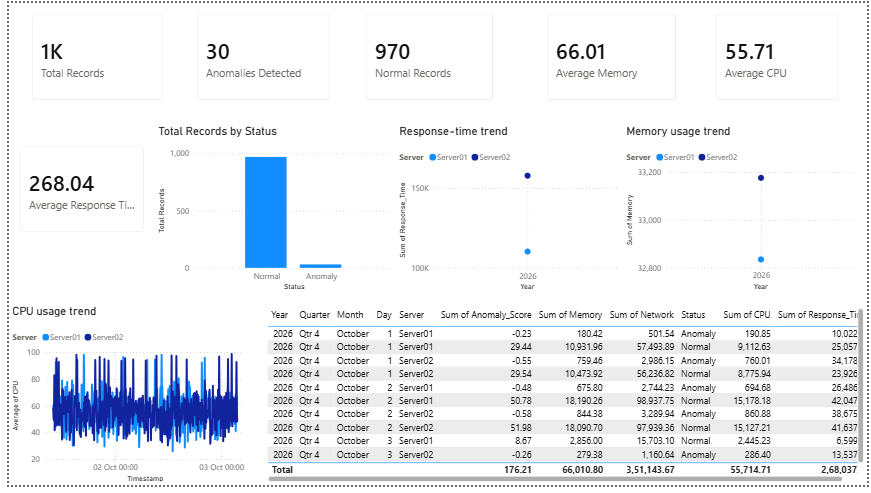

This screenshot's page, from the dashboard's own definition file:
{"tool":"powerbi","page":{"name":"Page 1","canvas":[1280,720],"ordinal":0},"visuals":[{"type":"cardVisual","fields":{"Data":["Monitoring.Total Records"]},"box":[17.3,0,228.5,162.9],"z":0},{"type":"cardVisual","fields":{"Data":["Monitoring.Anomalies Detected"]},"box":[263.5,0,231.8,162.9],"z":1},{"type":"cardVisual","fields":{"Data":["Monitoring.Normal Records"]},"box":[517,0,223.4,162.9],"z":2},{"type":"cardVisual","fields":{"Data":["Monitoring.Average Memory"]},"box":[786.2,0,226.8,162.9],"z":3},{"type":"cardVisual","fields":{"Data":["Monitoring.Average CPU"]},"box":[1038.2,0,216.7,162.9],"z":4},{"type":"cardVisual","fields":{"Data":["Monitoring.Average Response Time"]},"box":[0,197.3,218.4,162.9],"z":5},{"type":"lineChart","title":"CPU usage trend","fields":{"Y":["Avg(Monitoring.CPU)"],"Series":["Monitoring.Server"],"Category":["Monitoring.Timestamp"]},"box":[0,449.3,379.6,270.4],"z":6},{"type":"lineChart","title":"Memory usage trend","fields":{"Category":["Monitoring.Timestamp.Variation.Date Hierarchy.Year","Monitoring.Timestamp.Variation.Date Hierarchy.Quarter","Monitoring.Timestamp.Variation.Date Hierarchy.Month","Monitoring.Timestamp.Variation.Date Hierarchy.Day"],"Y":["Sum(Monitoring.Memory)"],"Series":["Monitoring.Server"]},"box":[917,180,349.9,253.4],"z":7},{"type":"lineChart","title":"Response-time trend","fields":{"Category":["Monitoring.Timestamp.Variation.Date Hierarchy.Year","Monitoring.Timestamp.Variation.Date Hierarchy.Quarter","Monitoring.Timestamp.Variation.Date Hierarchy.Month","Monitoring.Timestamp.Variation.Date Hierarchy.Day"],"Y":["Sum(Monitoring.Response_Time)"],"Series":["Monitoring.Server"]},"box":[578.3,180,338.7,253.7],"z":8},{"type":"clusteredColumnChart","fields":{"Category":["Monitoring.Status"],"Y":["Monitoring.Total Records"]},"box":[218.3,180,360,253.7],"z":9},{"type":"tableEx","fields":{"Values":["Monitoring.Timestamp.Variation.Date Hierarchy.Year","Monitoring.Timestamp.Variation.Date Hierarchy.Quarter","Monitoring.Timestamp.Variation.Date Hierarchy.Month","Monitoring.Timestamp.Variation.Date Hierarchy.Day","Monitoring.Server","Sum(Monitoring.Anomaly_Score)","Sum(Monitoring.Memory)","Sum(Monitoring.Network)","Monitoring.Status","Sum(Monitoring.CPU)","Sum(Monitoring.Response_Time)"]},"box":[380.2,450.7,900,269.3],"z":10}]}

Visuals, with their boxes in screenshot pixels (x1, y1, x2, y2), scaled from the page's 1280x720 canvas onto the 871x493 screenshot:
cardVisual - Monitoring.Total Records: (12,0,167,112)
cardVisual - Monitoring.Anomalies Detected: (179,0,337,112)
cardVisual - Monitoring.Normal Records: (352,0,504,112)
cardVisual - Monitoring.Average Memory: (535,0,689,112)
cardVisual - Monitoring.Average CPU: (706,0,854,112)
cardVisual - Monitoring.Average Response Time: (0,135,149,247)
"CPU usage trend" lineChart: (0,308,258,492)
"Memory usage trend" lineChart: (624,123,862,297)
"Response-time trend" lineChart: (394,123,624,297)
clusteredColumnChart - Monitoring.Status x Monitoring.Total Records: (149,123,394,297)
tableEx - Monitoring.Timestamp.Variation.Date Hierarchy.Year x Monitoring.Timestamp.Variation.Date Hierarchy.Quarter: (259,309,870,492)
